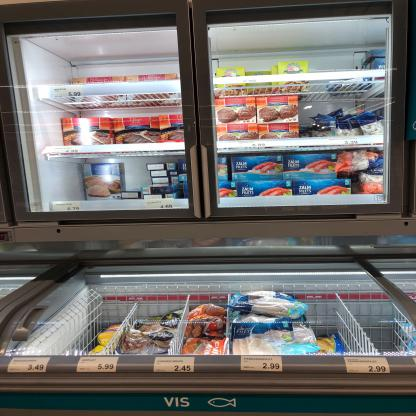prtg: (345, 358, 392, 374), (8, 358, 53, 374), (241, 356, 283, 373), (78, 358, 121, 373), (154, 358, 196, 373), (53, 86, 85, 98), (145, 199, 176, 209), (54, 202, 83, 211)
